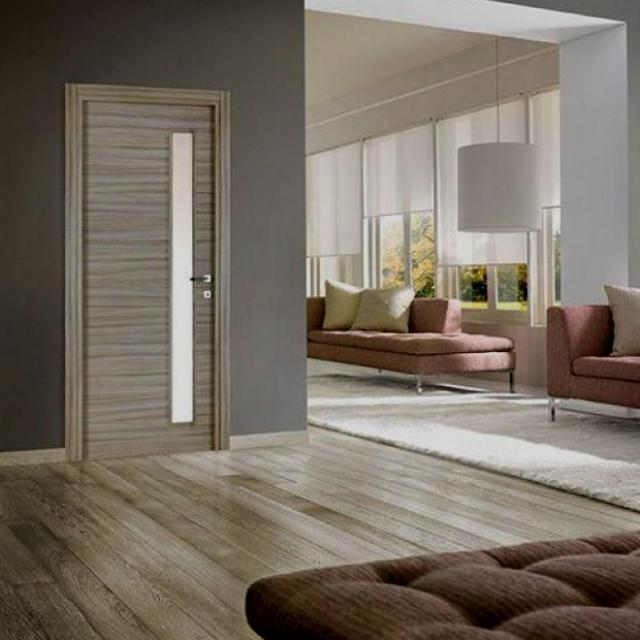door: (67, 83, 224, 461)
